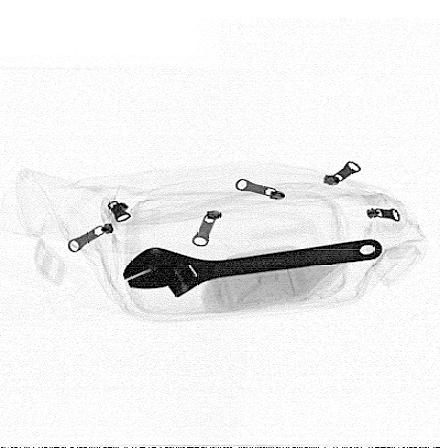Wrench: (123, 238, 385, 297)
